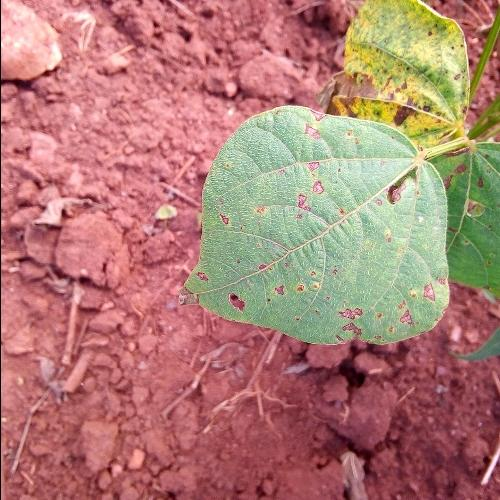mozaik: (177, 136, 465, 348)
